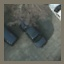car: (24, 25, 50, 50), (5, 26, 19, 49)
